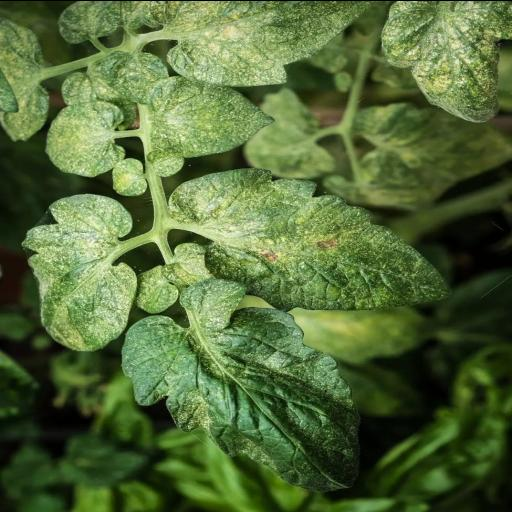Spider Mites: (119, 304, 362, 494), (170, 169, 446, 312), (22, 192, 136, 354), (380, 0, 512, 123), (142, 74, 276, 160), (44, 99, 126, 178)
